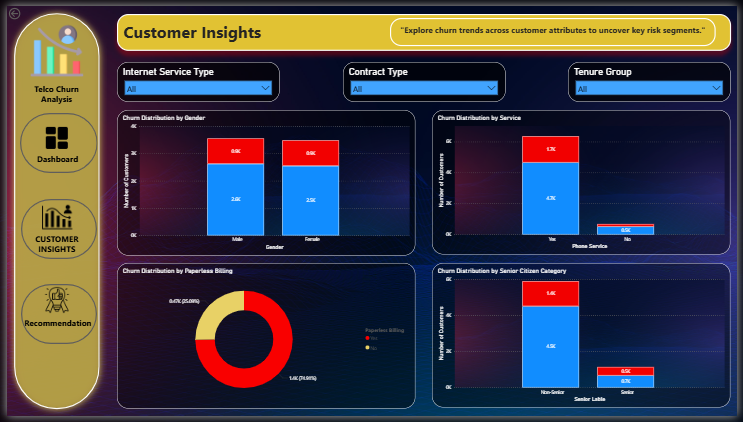

This screenshot's page, from the dashboard's own definition file:
{"tool":"powerbi","page":{"name":"Customer Insights","canvas":[1920,1080],"ordinal":1},"visuals":[{"type":"actionButton","box":[0,0,100,40],"z":0},{"type":"shape","title":"Telco ","box":[0,0,262.5,1080],"z":1000},{"type":"image","box":[91.4,312.9,78.9,68.4],"z":1000,"group":"g2"},{"type":"image","box":[0,40,262.9,157.1],"z":2000},{"type":"textbox","box":[63.6,591.8,136.4,72.2],"z":2000,"group":"g4"},{"type":"textbox","box":[32.9,811.8,205,42.5],"z":2000,"group":"g6"},{"type":"textbox","box":[289.5,21.1,1615.8,97.4],"z":3000},{"type":"textbox","box":[1007.1,32.9,857.1,74.3],"z":4000},{"type":"columnChart","title":"Churn Distribution by Gender","fields":{"Category":["Telco_Churn_Cleaned_SQL.gender"],"Y":["CountNonNull(Telco_Churn_Cleaned_SQL.customerID)"],"Series":["Telco_Churn_Cleaned_SQL.Churn"]},"box":[290.2,272.6,785.4,382.9],"z":5000},{"type":"columnChart","title":"Churn Distribution by Senior Citizen Category","fields":{"Y":["CountNonNull(Telco_Churn_Cleaned_SQL.customerID)"],"Series":["Telco_Churn_Cleaned_SQL.Churn"],"Category":["Telco_Churn_Cleaned_SQL.Senior Lable"]},"box":[1119.5,675.6,785.4,380.5],"z":6000},{"type":"columnChart","title":"Churn Distribution by Service","fields":{"Category":["Telco_Churn_Cleaned_SQL.PhoneService"],"Y":["CountNonNull(Telco_Churn_Cleaned_SQL.customerID)"],"Series":["Telco_Churn_Cleaned_SQL.Churn"]},"box":[1119.5,273.8,785.4,380.5],"z":7000},{"type":"donutChart","title":"Churn Distribution by Paperless Billing","fields":{"Category":["Telco_Churn_Cleaned_SQL.PaperlessBilling"],"Y":["CountNonNull(Telco_Churn_Cleaned_SQL.customerID)"]},"box":[290.2,675.6,785.4,382.9],"z":8000},{"type":"slicer","title":"Contract Type","fields":{"Values":["Telco_Churn_Cleaned_SQL.Contract"]},"box":[883.8,147.5,427.5,105],"z":9000},{"type":"slicer","title":"Internet Service Type","fields":{"Values":["Telco_Churn_Cleaned_SQL.InternetService"]},"box":[290,147.5,427.5,105],"z":10000},{"type":"slicer","title":"Tenure Group","fields":{"Values":["Telco_Churn_Cleaned_SQL.TenureGroups"]},"box":[1477.5,147.5,427.5,105],"z":11000},{"type":"textbox","box":[27.1,197.1,208.6,65.7],"z":12000},{"type":"group","id":"g1","title":"Group 2","box":[72.5,312.9,127.5,127.1],"z":13000},{"type":"group","id":"g2","title":"Group 1","box":[91.4,312.9,78.6,68.6],"z":13000,"group":"g1"},{"type":"group","id":"g3","title":"Group 3","box":[63.6,510.5,136.2,153.8],"z":14000},{"type":"group","id":"g4","title":"Group 1","box":[63.6,591.8,136.2,72.5],"z":14000,"group":"g3"},{"type":"textbox","box":[72.5,382.5,127.5,57.5],"z":15000,"group":"g1"},{"type":"group","id":"g5","title":"Group 4","box":[32.9,733,205,121.2],"z":15000},{"type":"actionButton","box":[33.3,282.2,204.4,157.8],"z":16000},{"type":"image","box":[92.4,733,78.8,78.8],"z":16000,"group":"g5"},{"type":"actionButton","box":[37.8,506.7,200,157.8],"z":17000},{"type":"image","box":[83.6,510.5,96.2,90],"z":17000,"group":"g3"},{"type":"actionButton","box":[35.6,731.1,200,157.8],"z":18000},{"type":"group","id":"g6","title":"Group 1","box":[32.9,811.8,205,42.5],"z":18000,"group":"g5"}]}

Visuals, with their boxes in screenshot pixels (x1, y1, x2, y2), scaled from the page's 1920x1080 canvas onto the 743x422 screenshot:
actionButton: region(0, 0, 39, 16)
"Telco " shape: region(0, 0, 102, 421)
image: region(35, 122, 66, 149)
image: region(0, 16, 102, 77)
textbox: region(25, 231, 77, 259)
textbox: region(13, 317, 92, 334)
textbox: region(112, 8, 737, 46)
textbox: region(390, 13, 721, 42)
"Churn Distribution by Gender" columnChart: region(112, 107, 416, 256)
"Churn Distribution by Senior Citizen Category" columnChart: region(433, 264, 737, 413)
"Churn Distribution by Service" columnChart: region(433, 107, 737, 256)
"Churn Distribution by Paperless Billing" donutChart: region(112, 264, 416, 414)
"Contract Type" slicer: region(342, 58, 507, 99)
"Internet Service Type" slicer: region(112, 58, 278, 99)
"Tenure Group" slicer: region(572, 58, 737, 99)
textbox: region(10, 77, 91, 103)
"Group 2" group: region(28, 122, 77, 172)
"Group 1" group: region(35, 122, 66, 149)
"Group 3" group: region(25, 199, 77, 260)
"Group 1" group: region(25, 231, 77, 260)
textbox: region(28, 149, 77, 172)
"Group 4" group: region(13, 286, 92, 334)
actionButton: region(13, 110, 92, 172)
image: region(36, 286, 66, 317)
actionButton: region(15, 198, 92, 260)
image: region(32, 199, 70, 235)
actionButton: region(14, 286, 91, 347)
"Group 1" group: region(13, 317, 92, 334)
